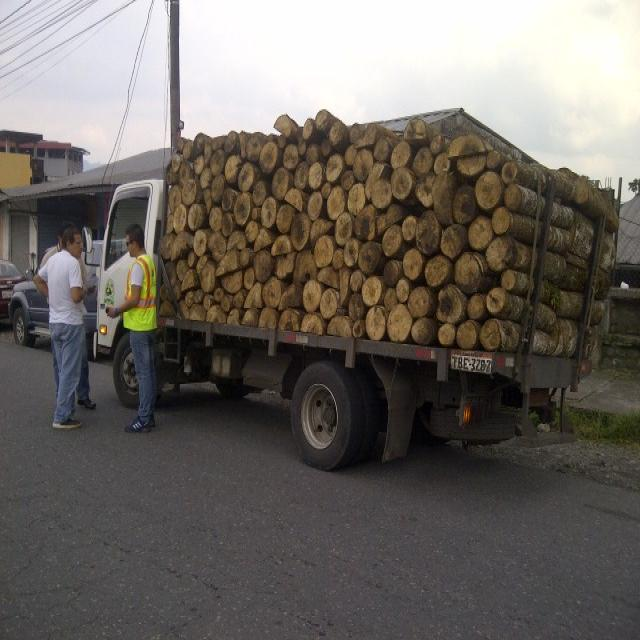TRUCK: (97, 104, 629, 475)
